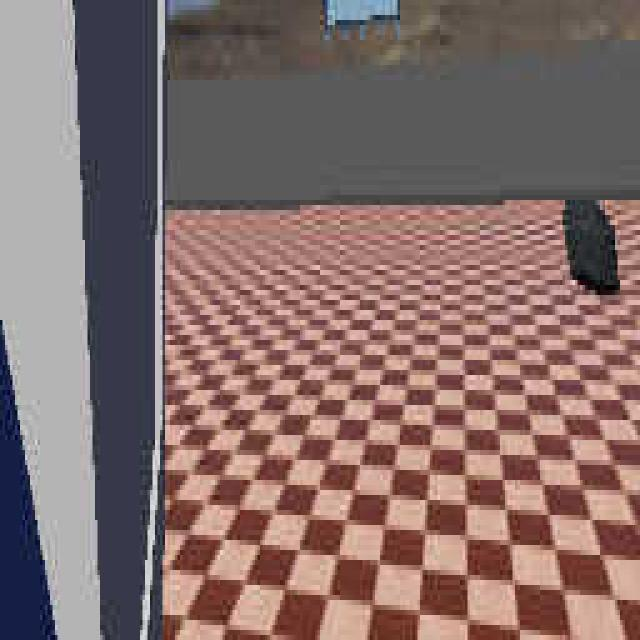rock: (562, 192, 622, 301)
